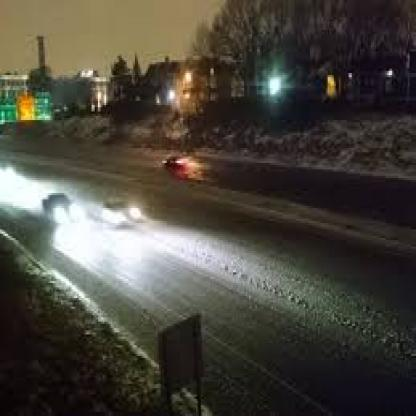car: (96, 186, 148, 231), (46, 190, 82, 235), (153, 145, 190, 175)
